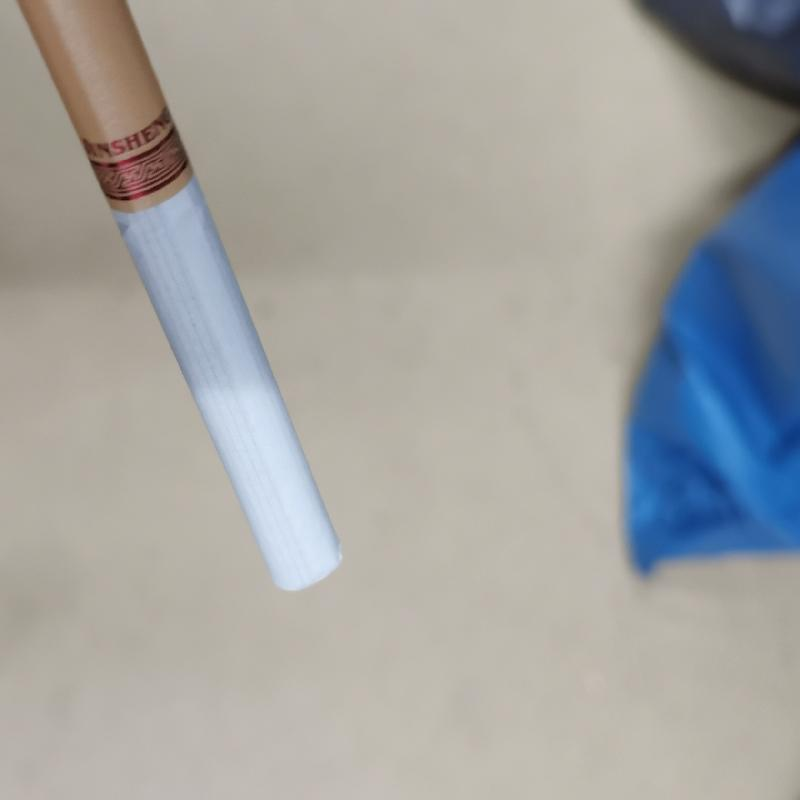cigarette: (7, 0, 347, 597)
